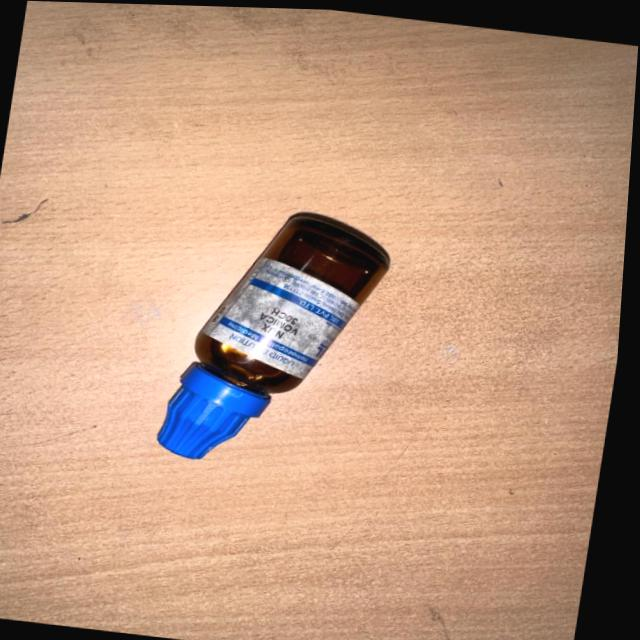medicine: (131, 207, 405, 475)
